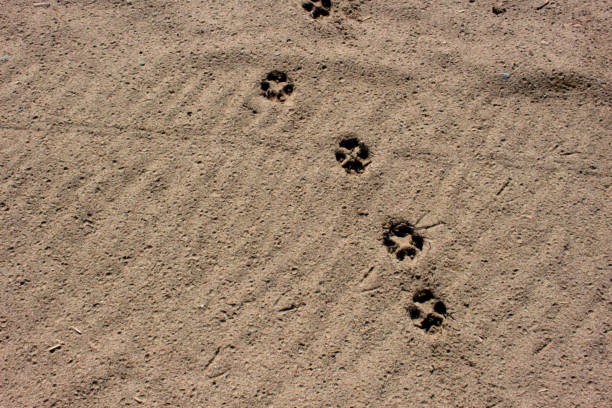animal_foot_print: (407, 288, 446, 331), (383, 220, 424, 260), (335, 136, 370, 172), (260, 70, 293, 101), (302, 0, 331, 18)
